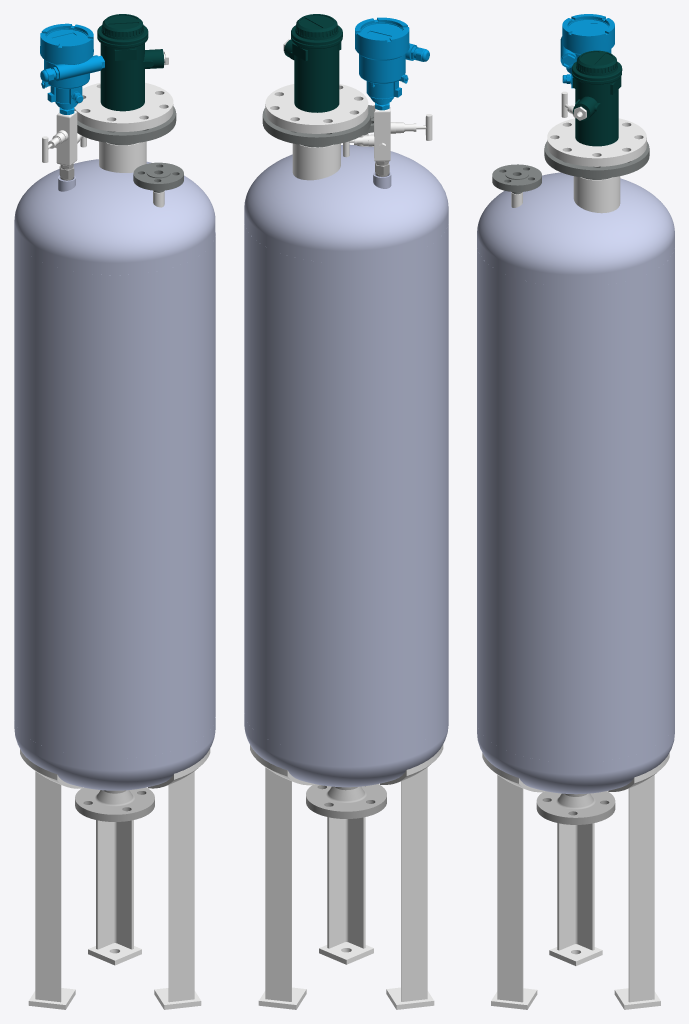
File: 缓冲罐体.obj
3 views of the same model, side by side, from view 1: azimuth 30°, elevation 25°; view 2: azimuth 150°, elevation 25°; view 3: azimuth 270°, elevation 25° (orthographic). The views are drawn at different scales.
Visible parts, largest first — view 1: BRep_2, BRep_3, BRep_1_5, BRep_1_6, BRep_1_8, BRep_4, BRep_1_7, BRep_1_13, BRep_1_4, BRep_1_9, BRep_1_10, BRep_1_11 (+4 smaller); view 2: BRep_2, BRep_3, BRep_1_5, BRep_1_6, BRep_1_7, BRep_4, BRep_1_8, BRep_1_13, BRep_1_4, BRep_1_10, BRep_1_9, BRep_3_1 (+4 smaller); view 3: BRep_2, BRep_3, BRep_1_5, BRep_1_7, BRep_1_8, BRep_4, BRep_1_6, BRep_1_13, BRep_1_4, BRep_1_10, BRep_1_9, BRep_1_11 (+3 smaller).
Part boxes in pixels (x1=…): BRep_2: x1=14, y1=232, x2=215, y2=758; BRep_3: x1=14, y1=159, x2=215, y2=275; BRep_1_5: x1=74, y1=14, x2=173, y2=131; BRep_1_6: x1=35, y1=771, x2=61, y2=1002; BRep_1_8: x1=168, y1=771, x2=194, y2=1002; BRep_4: x1=14, y1=717, x2=215, y2=790; BRep_1_7: x1=96, y1=820, x2=133, y2=949; BRep_1_13: x1=40, y1=23, x2=104, y2=114; BRep_1_4: x1=75, y1=787, x2=154, y2=821; BRep_1_9: x1=77, y1=106, x2=176, y2=145; BRep_1_10: x1=99, y1=141, x2=146, y2=172; BRep_1_11: x1=133, y1=162, x2=183, y2=192; BRep_2: x1=244, y1=222, x2=448, y2=754; BRep_3: x1=244, y1=145, x2=448, y2=263; BRep_1_5: x1=265, y1=14, x2=368, y2=133; BRep_1_6: x1=401, y1=767, x2=427, y2=1001; BRep_1_7: x1=265, y1=767, x2=291, y2=1001; BRep_4: x1=244, y1=713, x2=448, y2=787; BRep_1_8: x1=327, y1=817, x2=365, y2=948; BRep_1_13: x1=355, y1=17, x2=429, y2=110; BRep_1_4: x1=306, y1=784, x2=386, y2=818; BRep_1_10: x1=292, y1=143, x2=340, y2=180; BRep_1_9: x1=262, y1=108, x2=370, y2=147; BRep_3_1: x1=374, y1=105, x2=390, y2=161; BRep_2: x1=477, y1=247, x2=674, y2=762; BRep_3: x1=477, y1=172, x2=674, y2=286; BRep_1_5: x1=547, y1=50, x2=646, y2=166; BRep_1_7: x1=628, y1=775, x2=654, y2=1002; BRep_1_8: x1=497, y1=775, x2=523, y2=1002; BRep_4: x1=477, y1=722, x2=674, y2=794; BRep_1_6: x1=557, y1=823, x2=594, y2=950; BRep_1_13: x1=560, y1=14, x2=614, y2=88; BRep_1_4: x1=536, y1=791, x2=615, y2=824; BRep_1_10: x1=573, y1=176, x2=620, y2=213; BRep_1_9: x1=544, y1=141, x2=649, y2=179; BRep_1_11: x1=492, y1=164, x2=541, y2=194.
Size of the model in its own units: 377 by 1975 by 377.
